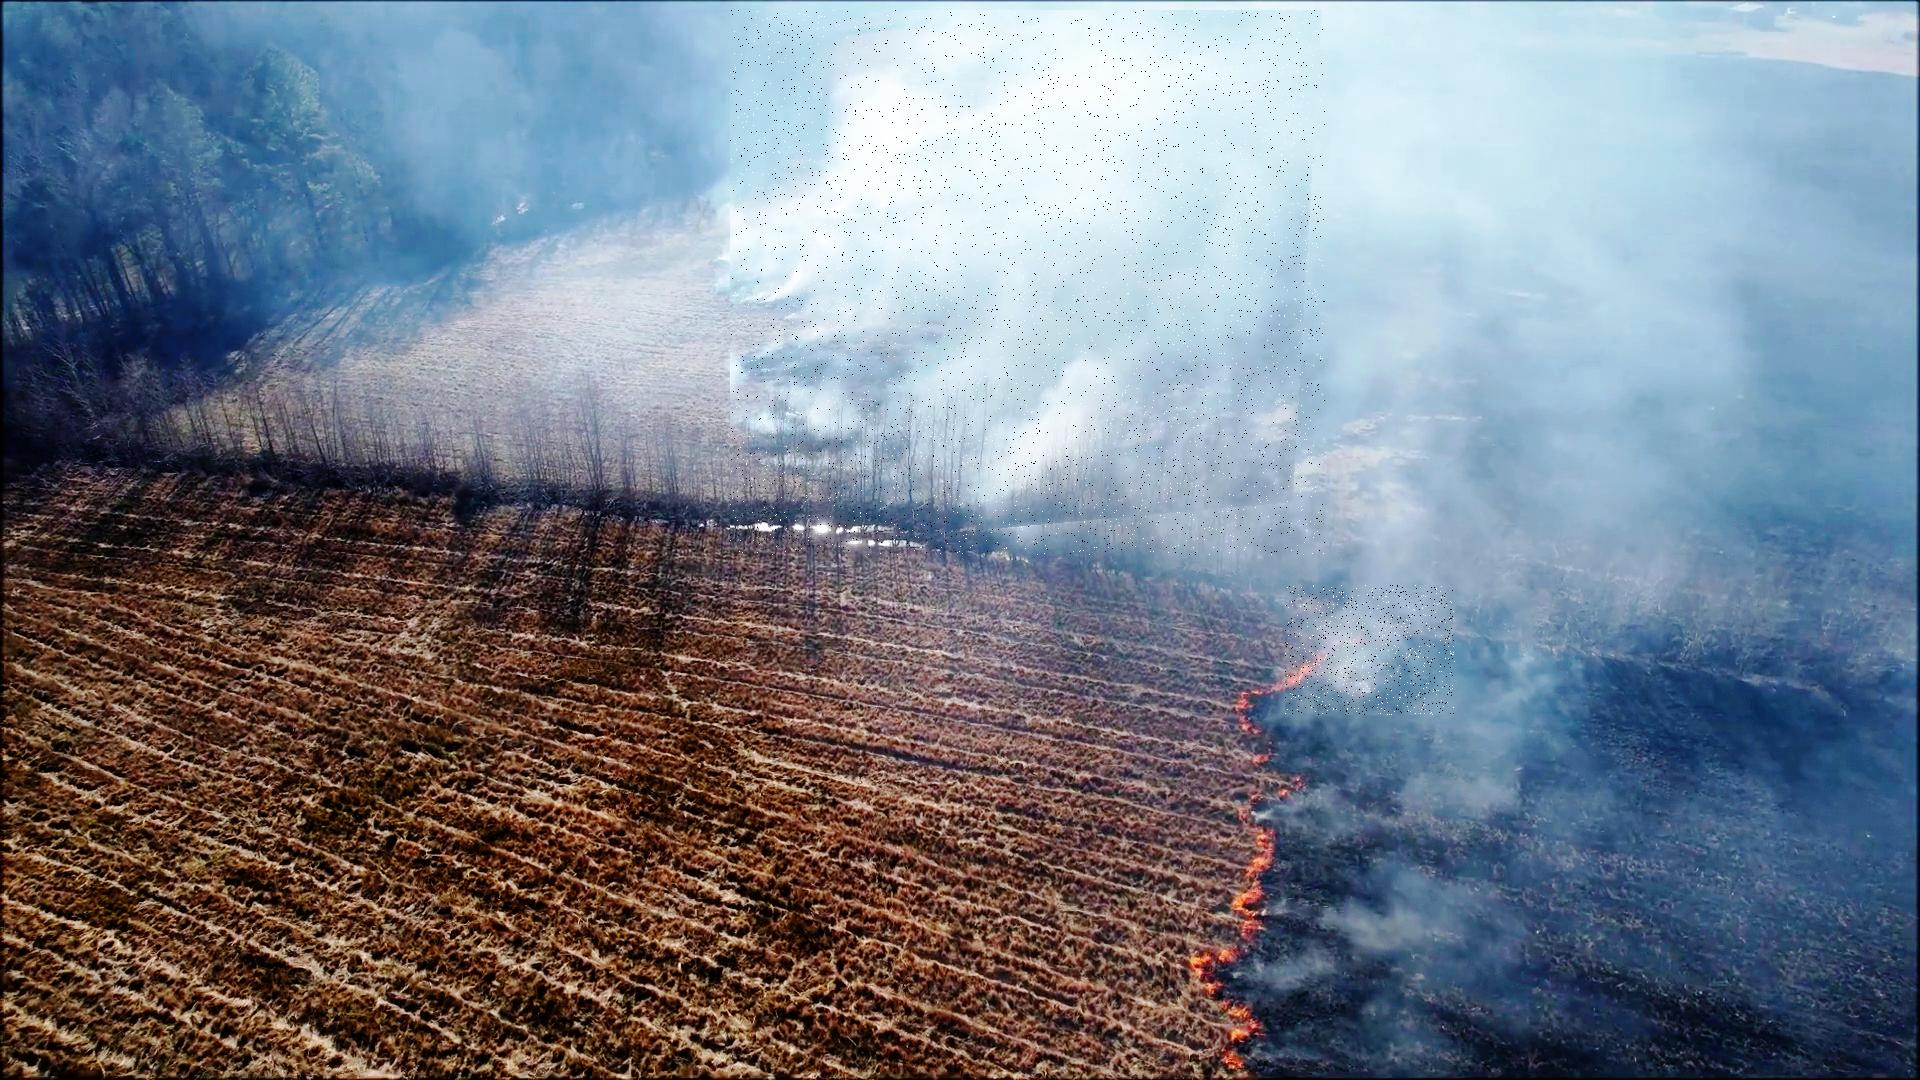smoke: (731, 11, 1325, 555), (1284, 585, 1455, 715)
